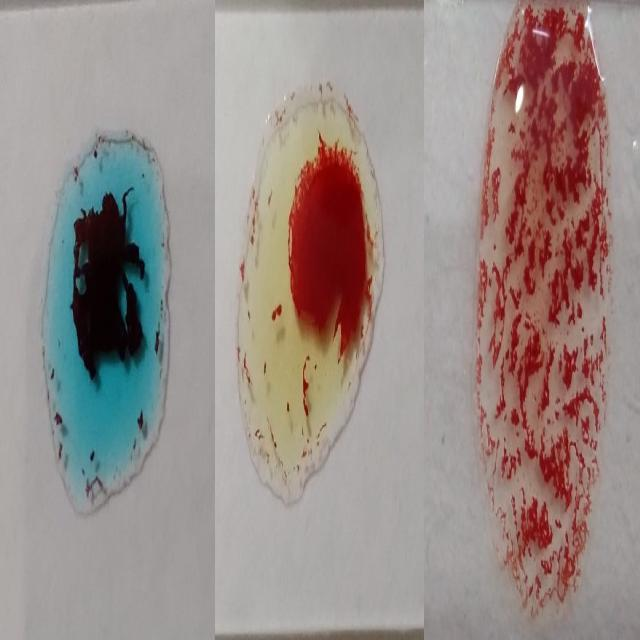A: (51, 128, 168, 514)
B: (240, 73, 379, 500)
D: (476, 6, 614, 612)
